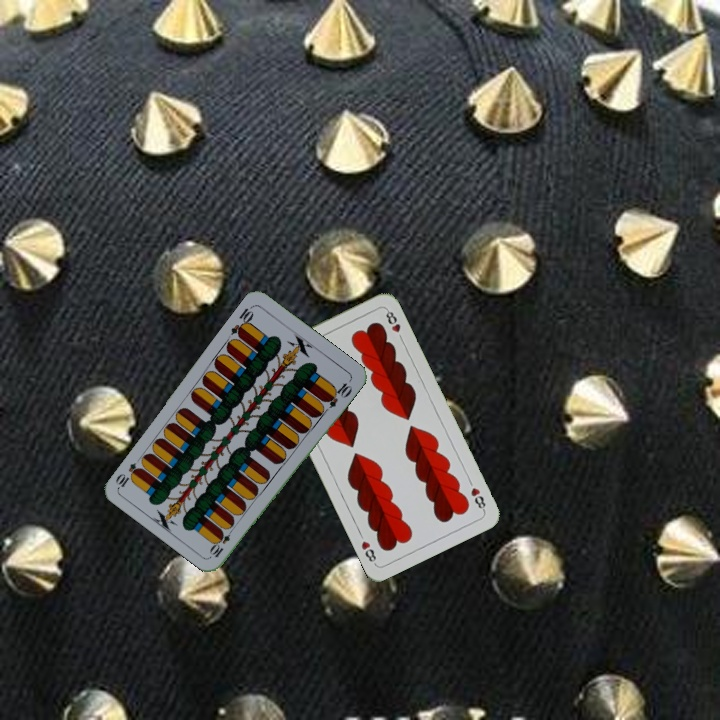E10: (226, 302, 257, 340), (207, 523, 236, 560)
H8: (467, 483, 488, 514)
